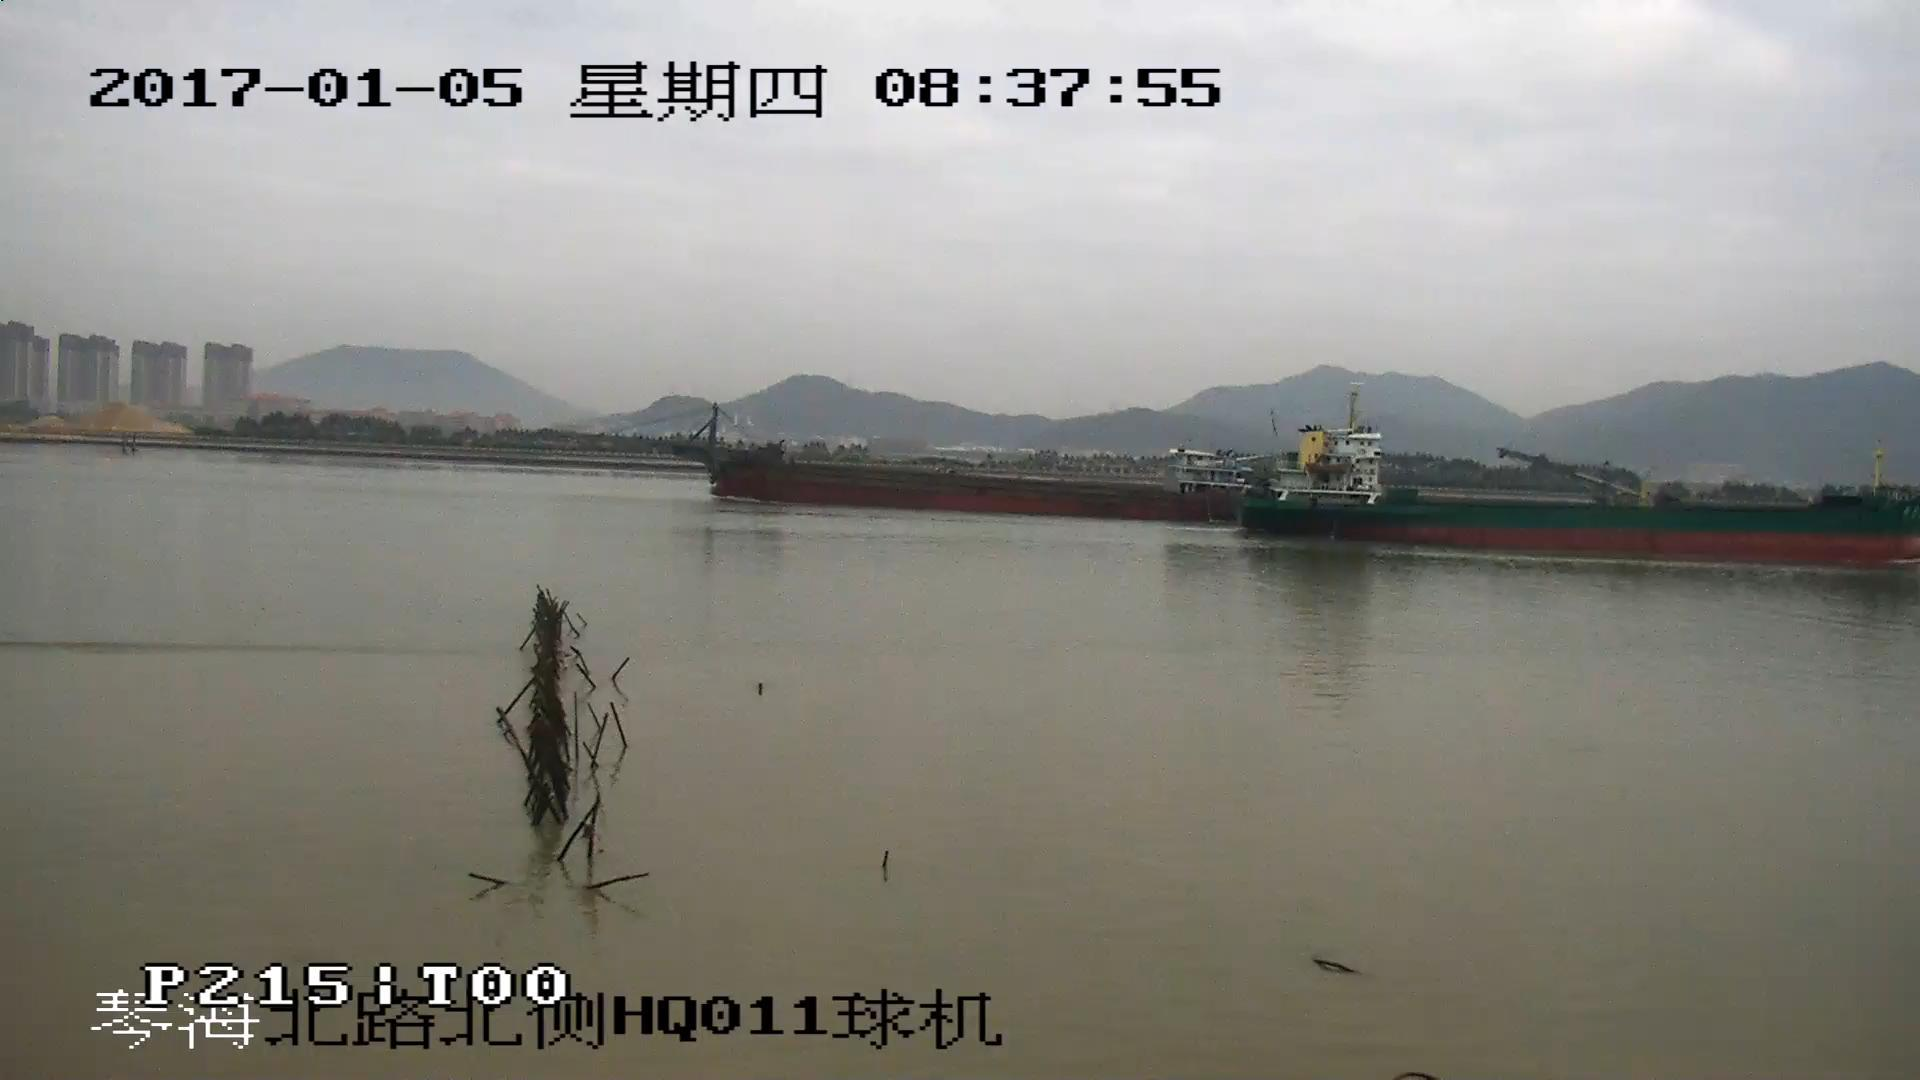Ship: (1246, 392, 1920, 566), (662, 405, 1244, 521)
